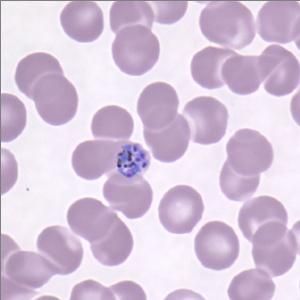Infected: (109, 138, 152, 180)
Uninfected: (221, 53, 286, 97), (198, 0, 257, 48), (250, 222, 298, 281), (112, 26, 160, 79), (15, 52, 64, 103), (237, 195, 287, 244), (36, 227, 86, 276), (157, 184, 203, 235), (34, 75, 79, 127), (143, 109, 187, 162), (88, 212, 131, 266), (104, 172, 151, 221), (193, 222, 238, 273), (4, 249, 63, 287), (228, 127, 272, 177), (260, 45, 300, 97), (137, 82, 179, 131), (186, 95, 228, 144), (256, 0, 300, 44), (59, 0, 105, 42), (192, 49, 239, 90), (67, 199, 113, 240), (110, 0, 155, 40), (73, 139, 116, 179), (219, 162, 262, 201), (227, 266, 275, 300), (93, 104, 135, 140)
